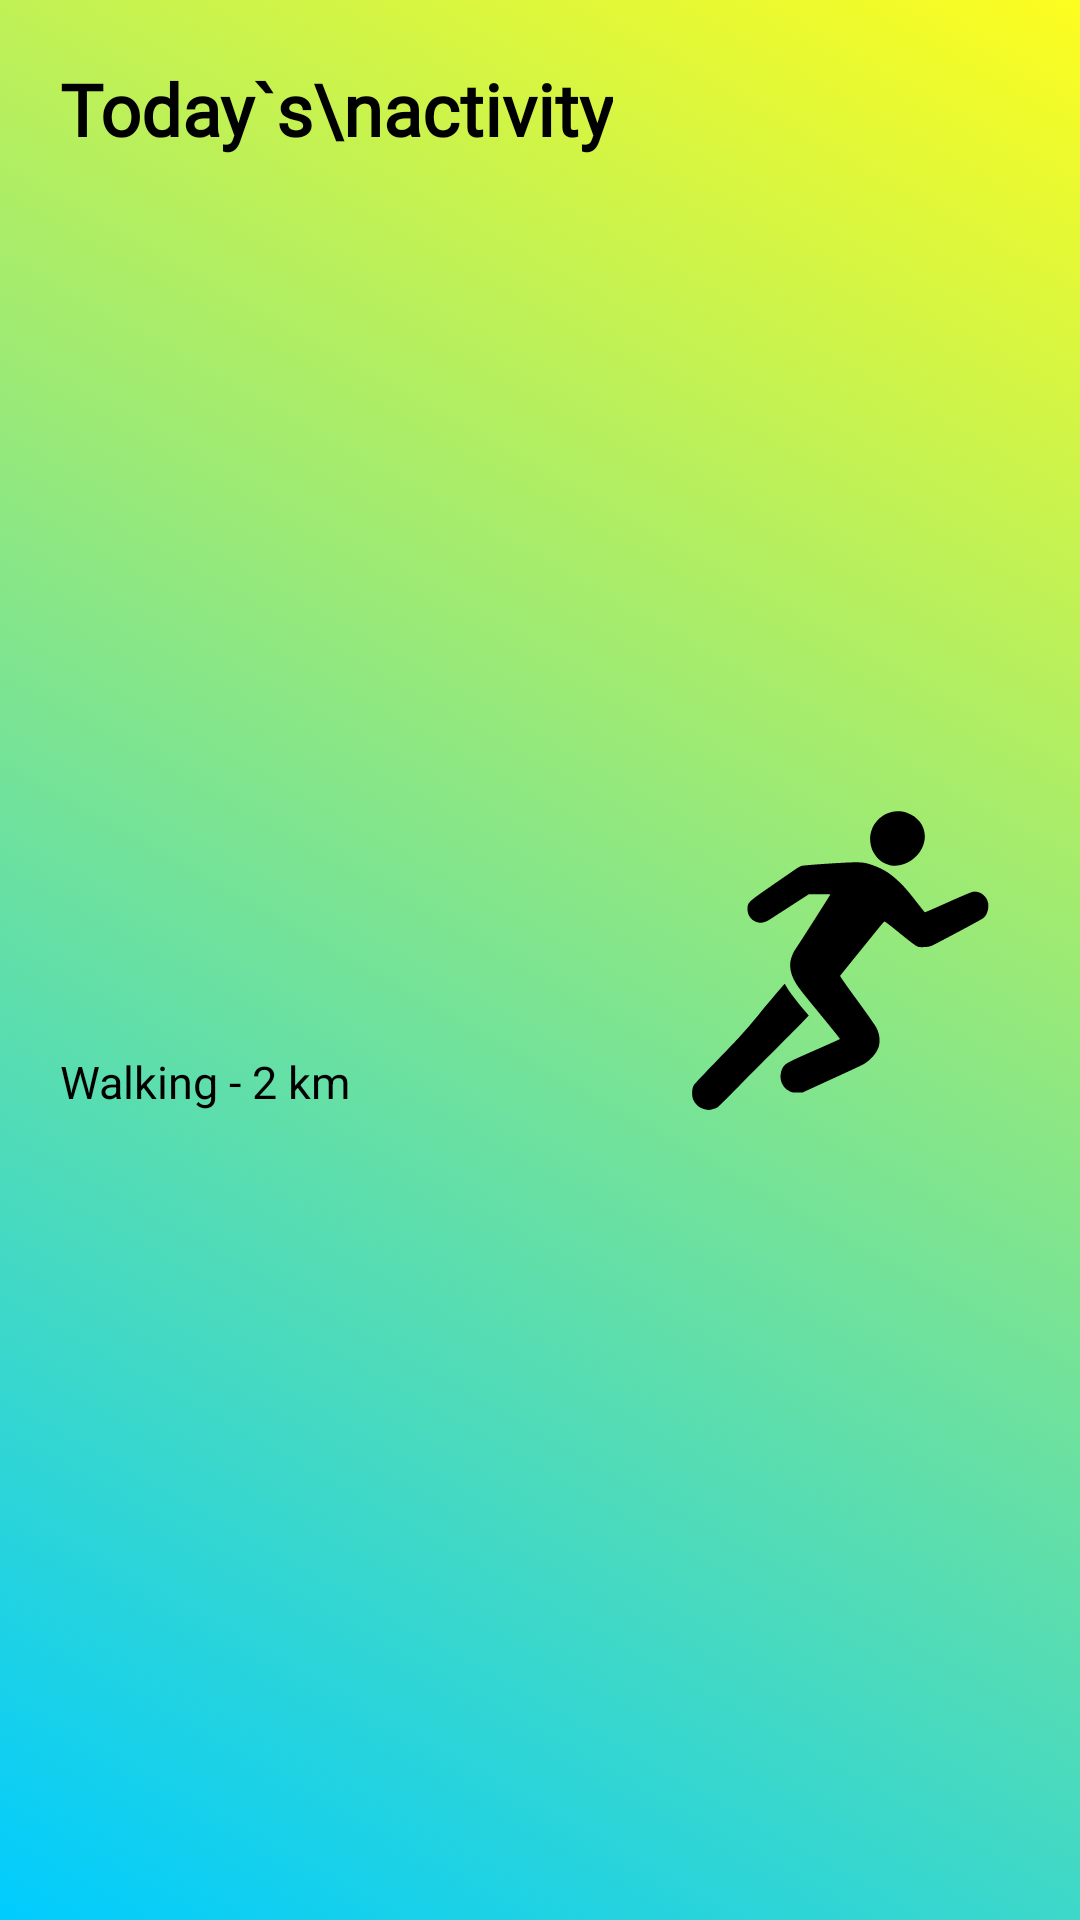

Point at icon controls on the screen. Image size 1080 x 1920, points as point (x, y).
running men: point (840, 960)
